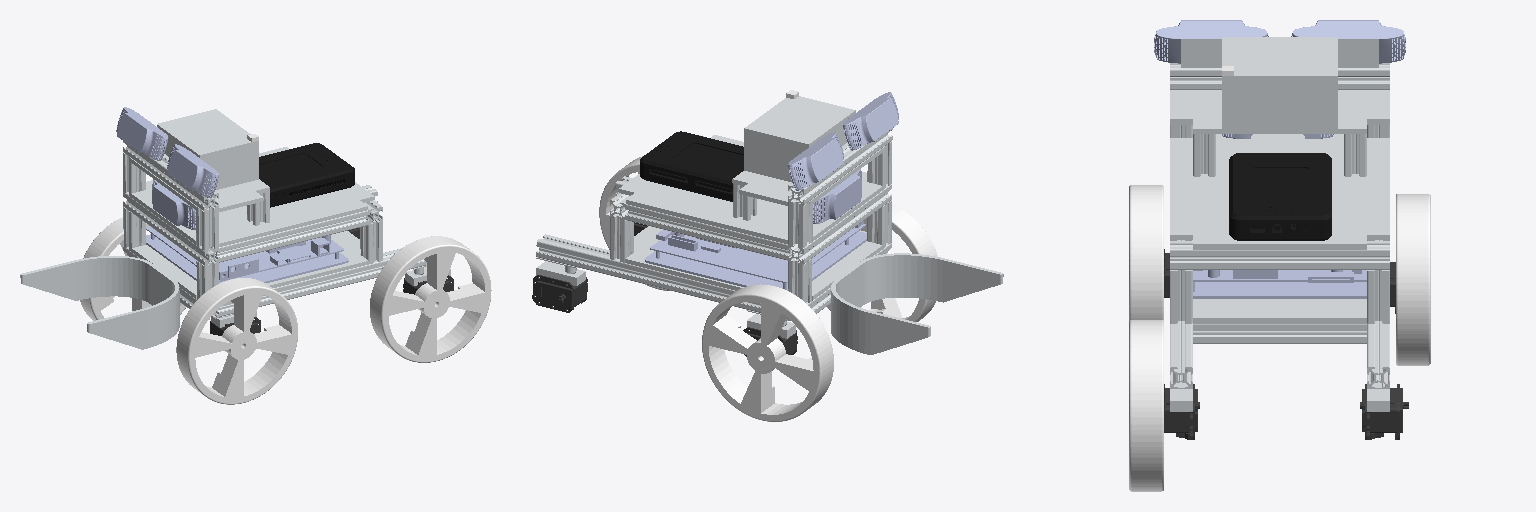
--- What the picture shows (computed from the rendered views, not written in the file) ---
Views: 3 orthographic renders of the robot side by side, from view 1: azimuth 30°, elevation 25°; view 2: azimuth 150°, elevation 25°; view 3: azimuth 270°, elevation 25°.
Robot: modification2_2 — 22 links, 21 joints (4 continuous, 4 prismatic, 13 fixed); root link base_link; default pose: all joints at 0.
Links seen in each view (by area): view 1: base_link, left_front_wheel, left_rear_wheel, pusher, nvidia, myrio, camera2, camera3, right_front_wheel, camera; view 2: base_link, right_front_wheel, pusher, nvidia, myrio, left_front_wheel, camera3, camera2, right_rear_wheel_motor, camera, left_rear_wheel, right_rear_wheel_suspension; view 3: base_link, myrio, right_front_wheel, left_rear_wheel, nvidia, left_front_wheel, camera2, camera3, right_rear_wheel_motor, left_rear_wheel_motor, left_rear_wheel_suspension, right_rear_wheel_suspension.
Boxes of the visible links, <box> form: base_link: <box>123,109,426,319</box>; left_front_wheel: <box>176,278,297,404</box>; left_rear_wheel: <box>370,236,491,362</box>; pusher: <box>20,256,179,349</box>; nvidia: <box>146,226,348,283</box>; myrio: <box>259,143,354,207</box>; camera2: <box>116,107,168,160</box>; camera3: <box>167,144,218,197</box>; right_front_wheel: <box>80,217,185,320</box>; camera: <box>152,179,195,229</box>; base_link: <box>536,96,892,325</box>; right_front_wheel: <box>702,284,833,421</box>; pusher: <box>831,253,1003,354</box>; nvidia: <box>645,221,866,290</box>; myrio: <box>640,131,743,201</box>; left_front_wheel: <box>827,204,937,321</box>; camera3: <box>843,92,898,150</box>; camera2: <box>788,132,843,190</box>; right_rear_wheel_motor: <box>532,275,587,312</box>; camera: <box>813,169,861,223</box>; left_rear_wheel: <box>599,156,669,290</box>; right_rear_wheel_suspension: <box>536,261,585,285</box>; base_link: <box>1170,37,1389,388</box>; myrio: <box>1229,153,1331,240</box>; right_front_wheel: <box>1396,194,1430,365</box>; left_rear_wheel: <box>1129,320,1163,491</box>; nvidia: <box>1193,270,1366,298</box>; left_front_wheel: <box>1129,185,1163,320</box>; camera2: <box>1291,20,1405,63</box>; camera3: <box>1154,20,1268,63</box>; right_rear_wheel_motor: <box>1360,384,1408,439</box>; left_rear_wheel_motor: <box>1164,384,1199,439</box>; left_rear_wheel_suspension: <box>1170,389,1192,411</box>; right_rear_wheel_suspension: <box>1367,389,1389,411</box>.
Bounding box of the posed robot: 0.5132 × 0.2595 × 0.3033 m (x, y, z).
Meshes: 22 distinct files referenced, 20 mesh visuals loaded (20 binary STL); not drawn: 2 (reference not matched to a file when rendering).

robot.urdf — modification2_2:
<?xml version="1.0" encoding="utf-8"?>
<!-- This URDF was automatically created by SolidWorks to URDF Exporter! Originally created by Stephen Brawner ([email redacted]) 
     Commit Version: 1.5.1-0-g916b5db  Build Version: 1.5.7152.31018
     For more information, please see http://wiki.ros.org/sw_urdf_exporter -->
<robot
  name="modification2_2">
  <link
    name="base_link">
    <inertial>
      <origin
        xyz="0.23702 -0.17913 0.050831"
        rpy="0 0 0" />
      <mass
        value="1.7142" />
      <inertia
        ixx="0.0030524"
        ixy="-4.9661E-12"
        ixz="-3.0934E-05"
        iyy="0.0053771"
        iyz="1.3096E-11"
        izz="0.0082758" />
    </inertial>
    <visual>
      <origin
        xyz="0 0 0"
        rpy="0 0 0" />
      <geometry>
        <mesh
          filename="package://modification2_2/meshes/base_link.STL" />
      </geometry>
      <material
        name="">
        <color
          rgba="0.89804 0.91765 0.92941 1" />
      </material>
    </visual>
    <collision>
      <origin
        xyz="0 0 0"
        rpy="0 0 0" />
      <geometry>
        <mesh
          filename="package://modification2_2/meshes/base_link.STL" />
      </geometry>
    </collision>
  </link>
  <link
    name="left_front_wheel_suspension">
    <inertial>
      <origin
        xyz="-0.0024482 0.0034343 0.0077474"
        rpy="0 0 0" />
      <mass
        value="0.023946" />
      <inertia
        ixx="1.0721E-06"
        ixy="-6.4768E-21"
        ixz="3.9492E-22"
        iyy="5.9742E-06"
        iyz="-6.8611E-23"
        izz="5.3013E-06" />
    </inertial>
    <visual>
      <origin
        xyz="0 0 0"
        rpy="0 0 0" />
      <geometry>
        <mesh
          filename="package://modification2_2/meshes/left_front_wheel_suspension.STL" />
      </geometry>
      <material
        name="">
        <color
          rgba="0.89804 0.91765 0.92941 1" />
      </material>
    </visual>
    <collision>
      <origin
        xyz="0 0 0"
        rpy="0 0 0" />
      <geometry>
        <mesh
          filename="package://modification2_2/meshes/left_front_wheel_suspension.STL" />
      </geometry>
    </collision>
  </link>
  <joint
    name="left_front_wheel_suspension_joint"
    type="prismatic">
    <origin
      xyz="0.17302 -0.25638 -0.025183"
      rpy="1.5708 -0.0058285 0" />
    <parent
      link="base_link" />
    <child
      link="left_front_wheel_suspension" />
    <axis
      xyz="0 1 0" />
    <limit
      lower="0"
      upper="0.008"
      effort="1000"
      velocity="1000" />
  </joint>
  <link
    name="left_front_wheel_motor">
    <inertial>
      <origin
        xyz="-0.0084619 0.0059275 -0.020684"
        rpy="0 0 0" />
      <mass
        value="0.041167" />
      <inertia
        ixx="1.155E-05"
        ixy="-2.9641E-09"
        ixz="-1.6485E-08"
        iyy="6.938E-06"
        iyz="1.5645E-07"
        izz="9.579E-06" />
    </inertial>
    <visual>
      <origin
        xyz="0 0 0"
        rpy="0 0 0" />
      <geometry>
        <mesh
          filename="package://modification2_2/meshes/left_front_wheel_motor.STL" />
      </geometry>
      <material
        name="">
        <color
          rgba="0.29804 0.29804 0.29804 1" />
      </material>
    </visual>
    <collision>
      <origin
        xyz="0 0 0"
        rpy="0 0 0" />
      <geometry>
        <mesh
          filename="package://modification2_2/meshes/left_front_wheel_motor.STL" />
      </geometry>
    </collision>
  </link>
  <joint
    name="left_front_wheel_motor_joint"
    type="fixed">
    <origin
      xyz="0.000300000000000022 -0.021785446729879 -0.00999999999999998"
      rpy="3.14159265358979 0 -1.5707963267949" />
    <parent
      link="left_front_wheel_suspension" />
    <child
      link="left_front_wheel_motor" />
    <axis
      xyz="0 0 0" />
    <limit
      effort="3.1"
      velocity="7" />
  </joint>
  <link
    name="left_front_wheel">
    <inertial>
      <origin
        xyz="0.023587 -0.0084106 -0.0040275"
        rpy="0 0 0" />
      <mass
        value="0.22822" />
      <inertia
        ixx="0.00078921"
        ixy="5.3331E-21"
        ixz="3.9085E-18"
        iyy="0.00041043"
        iyz="-3.2399E-19"
        izz="0.00041043" />
    </inertial>
    <visual>
      <origin
        xyz="0 0 0"
        rpy="0 0 0" />
      <geometry>
        <mesh
          filename="package://modification2_2/meshes/left_front_wheel.STL" />
      </geometry>
      <material
        name="">
        <color
          rgba="1 1 1 1" />
      </material>
    </visual>
    <collision>
      <origin
        xyz="0 0 0"
        rpy="0 0 0" />
      <geometry>
        <mesh
          filename="package://modification2_2/meshes/left_front_wheel.STL" />
      </geometry>
    </collision>
  </link>
  <joint
    name="left_front_wheel_joint"
    type="continuous">
    <origin
      xyz="0 0.0133000000000001 -0.0247499999999968"
      rpy="1.56496784847997 1.5707963267949 0" />
    <parent
      link="left_front_wheel_motor" />
    <child
      link="left_front_wheel" />
    <axis
      xyz="1 0 0" />
    <limit
      effort="3.1"
      velocity="7" />
  </joint>
  <link
    name="right_front_wheel_suspension">
    <inertial>
      <origin
        xyz="-0.0024482 -0.0049997 0.0077474"
        rpy="0 0 0" />
      <mass
        value="0.023946" />
      <inertia
        ixx="1.0721E-06"
        ixy="-5.8345E-21"
        ixz="1.7083E-21"
        iyy="5.9742E-06"
        iyz="5.9434E-23"
        izz="5.3013E-06" />
    </inertial>
    <visual>
      <origin
        xyz="0 0 0"
        rpy="0 0 0" />
      <geometry>
        <mesh
          filename="package://modification2_2/meshes/right_front_wheel_suspension.STL" />
      </geometry>
      <material
        name="">
        <color
          rgba="0.89804 0.91765 0.92941 1" />
      </material>
    </visual>
    <collision>
      <origin
        xyz="0 0 0"
        rpy="0 0 0" />
      <geometry>
        <mesh
          filename="package://modification2_2/meshes/right_front_wheel_suspension.STL" />
      </geometry>
    </collision>
  </link>
  <joint
    name="right_front_wheel_suspension_joint"
    type="prismatic">
    <origin
      xyz="0.173017310205243 -0.0863808182699648 -0.0251829837934054"
      rpy="1.5707963267949 -0.00582847831492263 0" />
    <parent
      link="base_link" />
    <child
      link="right_front_wheel_suspension" />
    <axis
      xyz="0 1 0" />
    <limit
      lower="0"
      upper="0.008"
      effort="1000"
      velocity="1000" />
  </joint>
  <link
    name="right_front_wheel_motor">
    <inertial>
      <origin
        xyz="-2.7958E-05 0.0059275 -0.0051891"
        rpy="0 0 0" />
      <mass
        value="0.041167" />
      <inertia
        ixx="1.155E-05"
        ixy="-2.9641E-09"
        ixz="-1.6485E-08"
        iyy="6.938E-06"
        iyz="1.5645E-07"
        izz="9.579E-06" />
    </inertial>
    <visual>
      <origin
        xyz="0 0 0"
        rpy="0 0 0" />
      <geometry>
        <mesh
          filename="package://modification2_2/meshes/right_front_wheel_motor.STL" />
      </geometry>
      <material
        name="">
        <color
          rgba="0.29804 0.29804 0.29804 1" />
      </material>
    </visual>
    <collision>
      <origin
        xyz="0 0 0"
        rpy="0 0 0" />
      <geometry>
        <mesh
          filename="package://modification2_2/meshes/right_front_wheel_motor.STL" />
      </geometry>
    </collision>
  </link>
  <joint
    name="right_front_wheel_motor_joint"
    type="fixed">
    <origin
      xyz="0.000299999999999967 -0.021785446729879 0.01"
      rpy="0 0 1.5707963267949" />
    <parent
      link="right_front_wheel_suspension" />
    <child
      link="right_front_wheel_motor" />
    <axis
      xyz="0 0 0" />
    <limit
      effort="3.1"
      velocity="7" />
  </joint>
  <link
    name="right_front_wheel">
    <inertial>
      <origin
        xyz="0.0080918 -2.3188E-05 -0.0039784"
        rpy="0 0 0" />
      <mass
        value="0.22822" />
      <inertia
        ixx="0.00078921"
        ixy="-1.2068E-20"
        ixz="-1.3167E-18"
        iyy="0.00041043"
        iyz="-3.3749E-19"
        izz="0.00041043" />
    </inertial>
    <visual>
      <origin
        xyz="0 0 0"
        rpy="0 0 0" />
      <geometry>
        <mesh
          filename="package://modification2_2/meshes/right_front_wheel.STL" />
      </geometry>
      <material
        name="">
        <color
          rgba="1 1 1 1" />
      </material>
    </visual>
    <collision>
      <origin
        xyz="0 0 0"
        rpy="0 0 0" />
      <geometry>
        <mesh
          filename="package://modification2_2/meshes/right_front_wheel.STL" />
      </geometry>
    </collision>
  </link>
  <joint
    name="right_front_wheel_joint"
    type="continuous">
    <origin
      xyz="0 0.0133 -0.02475"
      rpy="1.57662480510982 1.5707963267949 0" />
    <parent
      link="right_front_wheel_motor" />
    <child
      link="right_front_wheel" />
    <axis
      xyz="1 0 0" />
    <limit
      effort="3.1"
      velocity="7" />
  </joint>
  <link
    name="camera">
    <inertial>
      <origin
        xyz="0.05972 0.0025728 0.0086007"
        rpy="0 0 0" />
      <mass
        value="0.043612" />
      <inertia
        ixx="4.2948E-06"
        ixy="8.7977E-10"
        ixz="1.0233E-09"
        iyy="2.2106E-05"
        iyz="1.3219E-08"
        izz="2.3571E-05" />
    </inertial>
    <visual>
      <origin
        xyz="0 0 0"
        rpy="0 0 0" />
      <geometry>
        <mesh
          filename="package://modification2_2/meshes/camera.STL" />
      </geometry>
      <material
        name="">
        <color
          rgba="0.79216 0.81961 0.93333 1" />
      </material>
    </visual>
    <collision>
      <origin
        xyz="0 0 0"
        rpy="0 0 0" />
      <geometry>
        <mesh
          filename="package://modification2_2/meshes/camera.STL" />
      </geometry>
    </collision>
  </link>
  <joint
    name="camera"
    type="fixed">
    <origin
      xyz="0.127285028685578 -0.121173837611466 0.100548577023616"
      rpy="-1.5707963267949 0 -1.5707963267949" />
    <parent
      link="base_link" />
    <child
      link="camera" />
    <axis
      xyz="0 0 0" />
  </joint>
  <link
    name="myrio">
    <inertial>
      <origin
        xyz="0.029802 -0.019081 -0.0073103"
        rpy="0 0 0" />
      <mass
        value="0.2728" />
      <inertia
        ixx="0.00018312"
        ixy="9.7818E-08"
        ixz="1.3278E-06"
        iyy="0.00058403"
        iyz="-1.3394E-07"
        izz="0.0004265" />
    </inertial>
    <visual>
      <origin
        xyz="0 0 0"
        rpy="0 0 0" />
      <geometry>
        <mesh
          filename="package://modification2_2/meshes/myrio.STL" />
      </geometry>
      <material
        name="">
        <color
          rgba="0.14902 0.14902 0.14902 1" />
      </material>
    </visual>
    <collision>
      <origin
        xyz="0 0 0"
        rpy="0 0 0" />
      <geometry>
        <mesh
          filename="package://modification2_2/meshes/myrio.STL" />
      </geometry>
    </collision>
  </link>
  <joint
    name="myrio"
    type="fixed">
    <origin
      xyz="0.261041499396395 -0.185631459517847 0.113328386370531"
      rpy="1.5707963267949 -0.0058284783149254 0" />
    <parent
      link="base_link" />
    <child
      link="myrio" />
    <axis
      xyz="0 0 0" />
  </joint>
  <link
    name="intel">
    <inertial>
      <origin
        xyz="-0.0040354 0.016954 0.05597"
        rpy="0 0 0" />
      <mass
        value="0.39954" />
      <inertia
        ixx="0.00043203"
        ixy="-1.8338E-07"
        ixz="-3.1716E-07"
        iyy="0.00083697"
        iyz="4.7745E-07"
        izz="0.00047302" />
    </inertial>
    <visual>
      <origin
        xyz="0 0 0"
        rpy="0 0 0" />
      <geometry>
        <mesh
          filename="package://modification2_2/meshes/intel.STL" />
      </geometry>
      <material
        name="">
        <color
          rgba="0.79216 0.81961 0.93333 1" />
      </material>
    </visual>
    <collision>
      <origin
        xyz="0 0 0"
        rpy="0 0 0" />
      <geometry>
        <mesh
          filename="package://modification2_2/meshes/intel.STL" />
      </geometry>
    </collision>
  </link>
  <joint
    name="intel"
    type="fixed">
    <origin
      xyz="0.205522597365492 -0.109366659682657 -0.0259953857991605"
      rpy="1.5707963267949 -0.00582847831492263 0" />
    <parent
      link="base_link" />
    <child
      link="intel" />
    <axis
      xyz="0 0 0" />
  </joint>
  <link
    name="nvidia">
    <inertial>
      <origin
        xyz="-0.011063 0.0092094 -0.17116"
        rpy="0 0 0" />
      <mass
        value="0.24039" />
      <inertia
        ixx="0.00035768"
        ixy="-3.6191E-09"
        ixz="-2.9294E-07"
        iyy="0.00074648"
        iyz="4.0353E-06"
        izz="0.0003994" />
    </inertial>
    <visual>
      <origin
        xyz="0 0 0"
        rpy="0 0 0" />
      <geometry>
        <mesh
          filename="package://modification2_2/meshes/nvidia.STL" />
      </geometry>
      <material
        name="">
        <color
          rgba="0.79216 0.81961 0.93333 1" />
      </material>
    </visual>
    <collision>
      <origin
        xyz="0 0 0"
        rpy="0 0 0" />
      <geometry>
        <mesh
          filename="package://modification2_2/meshes/nvidia.STL" />
      </geometry>
    </collision>
  </link>
  <joint
    name="nvidia"
    type="fixed">
    <origin
      xyz="0.418367655264176 -0.191953362348841 0.0363810058695082"
      rpy="-1.57662480510981 0 -1.5707963267949" />
    <parent
      link="base_link" />
    <child
      link="nvidia" />
    <axis
      xyz="0 0 0" />
  </joint>
  <link
    name="pusher ">
    <inertial>
      <origin
        xyz="-0.0074595 -0.050092 0.016898"
        rpy="0 0 0" />
      <mass
        value="0.22566" />
      <inertia
        ixx="0.00042306"
        ixy="1.8219E-09"
        ixz="1.615E-10"
        iyy="0.00092302"
        iyz="-3.2094E-05"
        izz="0.0012554" />
    </inertial>
    <visual>
      <origin
        xyz="0 0 0"
        rpy="0 0 0" />
      <geometry>
        <mesh
          filename="package://modification2_2/meshes/pusher .STL" />
      </geometry>
      <material
        name="">
        <color
          rgba="0.89804 0.91765 0.92941 1" />
      </material>
    </visual>
    <collision>
      <origin
        xyz="0 0 0"
        rpy="0 0 0" />
      <geometry>
        <mesh
          filename="package://modification2_2/meshes/pusher .STL" />
      </geometry>
    </collision>
  </link>
  <joint
    name="pusher "
    type="fixed">
    <origin
      xyz="0.12800972713721 -0.171668848940021 0.00555337054790796"
      rpy="3.13576417527487 0 1.5707963267949" />
    <parent
      link="base_link" />
    <child
      link="pusher " />
    <axis
      xyz="0 0 0" />
    <limit
      lower="0"
      upper="0"
      effort="0"
      velocity="0" />
  </joint>
  <link
    name="camera2">
    <inertial>
      <origin
        xyz="-0.00091282 0.020118 -0.0016659"
        rpy="0 0 0" />
      <mass
        value="0.043612" />
      <inertia
        ixx="4.2947E-06"
        ixy="9.8013E-10"
        ixz="7.0878E-10"
        iyy="2.2285E-05"
        iyz="4.8105E-07"
        izz="2.339E-05" />
    </inertial>
    <visual>
      <origin
        xyz="0 0 0"
        rpy="0 0 0" />
      <geometry>
        <mesh
          filename="package://modification2_2/meshes/camera2.STL" />
      </geometry>
      <material
        name="">
        <color
          rgba="0.79216 0.81961 0.93333 1" />
      </material>
    </visual>
    <collision>
      <origin
        xyz="0 0 0"
        rpy="0 0 0" />
      <geometry>
        <mesh
          filename="package://modification2_2/meshes/camera2.STL" />
      </geometry>
    </collision>
  </link>
  <joint
    name="camera2"
    type="fixed">
    <origin
      xyz="0.12829 -0.12117 0.18555"
      rpy="-1.5708 0 -1.5708" />
    <parent
      link="base_link" />
    <child
      link="camera2" />
    <axis
      xyz="0 0 0" />
  </joint>
  <link
    name="left_rear_wheel_suspension">
    <inertial>
      <origin
        xyz="-0.0024482 -0.0049997 0.0077474"
        rpy="0 0 0" />
      <mass
        value="0.023946" />
      <inertia
        ixx="1.0721E-06"
        ixy="7.7114E-21"
        ixz="1.2963E-22"
        iyy="5.9742E-06"
        iyz="3.0104E-22"
        izz="5.3013E-06" />
    </inertial>
    <visual>
      <origin
        xyz="0 0 0"
        rpy="0 0 0" />
      <geometry>
        <mesh
          filename="package://modification2_2/meshes/left_rear_wheel_suspension.STL" />
      </geometry>
      <material
        name="">
        <color
          rgba="0.89804 0.91765 0.92941 1" />
      </material>
    </visual>
    <collision>
      <origin
        xyz="0 0 0"
        rpy="0 0 0" />
      <geometry>
        <mesh
          filename="package://modification2_2/meshes/left_rear_wheel_suspension.STL" />
      </geometry>
    </collision>
  </link>
  <joint
    name="left_rear_wheel_suspension_joint"
    type="prismatic">
    <origin
      xyz="0.433013447649035 -0.256382133064 -0.0237625829176585"
      rpy="1.5707963267949 -0.00582847831492541 0" />
    <parent
      link="base_link" />
    <child
      link="left_rear_wheel_suspension" />
    <axis
      xyz="0 1 0" />
    <limit
      lower="0"
      upper="0.008"
      effort="1000"
      velocity="1000" />
  </joint>
  <link
    name="left_rear_wheel_motor">
    <inertial>
      <origin
        xyz="-2.7958E-05 0.0059275 -0.020684"
        rpy="0 0 0" />
      <mass
        value="0.041167" />
      <inertia
        ixx="1.155E-05"
        ixy="-2.9641E-09"
        ixz="-1.6485E-08"
        iyy="6.938E-06"
        iyz="1.5645E-07"
        izz="9.579E-06" />
    </inertial>
    <visual>
      <origin
        xyz="0 0 0"
        rpy="0 0 0" />
      <geometry>
        <mesh
          filename="package://modification2_2/meshes/left_rear_wheel_motor.STL" />
      </geometry>
      <material
        name="">
        <color
          rgba="0.29804 0.29804 0.29804 1" />
      </material>
    </visual>
    <collision>
      <origin
        xyz="0 0 0"
        rpy="0 0 0" />
      <geometry>
        <mesh
          filename="package://modification2_2/meshes/left_rear_wheel_motor.STL" />
      </geometry>
    </collision>
  </link>
  <joint
    name="left_rear_wheel_motor_joint"
    type="fixed">
    <origin
      xyz="-0.000300000000000022 -0.021785446729879 -0.01"
      rpy="3.14159265358979 0 -1.5707963267949" />
    <parent
      link="left_rear_wheel_suspension" />
    <child
      link="left_rear_wheel_motor" />
    <axis
      xyz="0 0 0" />
    <limit
      effort="3.1"
      velocity="7" />
  </joint>
  <link
    name="left_rear_wheel">
    <inertial>
      <origin
        xyz="0.023587 2.3188E-05 -0.0039784"
        rpy="0 0 0" />
      <mass
        value="0.22822" />
      <inertia
        ixx="0.00078921"
        ixy="1.0227E-21"
        ixz="3.9277E-18"
        iyy="0.00041043"
        iyz="-3.3781E-19"
        izz="0.00041043" />
    </inertial>
    <visual>
      <origin
        xyz="0 0 0"
        rpy="0 0 0" />
      <geometry>
        <mesh
          filename="package://modification2_2/meshes/left_rear_wheel.STL" />
      </geometry>
      <material
        name="">
        <color
          rgba="1 1 1 1" />
      </material>
    </visual>
    <collision>
      <origin
        xyz="0 0 0"
        rpy="0 0 0" />
      <geometry>
        <mesh
          filename="package://modification2_2/meshes/left_rear_wheel.STL" />
      </geometry>
    </collision>
  </link>
  <joint
    name="left_rear_wheel_joint"
    type="continuous">
    <origin
      xyz="0 0.0133 -0.0247499999999941"
      rpy="1.56496784847997 1.5707963267949 0" />
    <parent
      link="left_rear_wheel_motor" />
    <child
      link="left_rear_wheel" />
    <axis
      xyz="1 0 0" />
    <limit
      effort="3.1"
      velocity="7" />
  </joint>
  <link
    name="imu">
    <inertial>
      <origin
        xyz="-0.0039784 0.0035868 0.011499"
        rpy="0 0 0" />
      <mass
        value="0.00051" />
      <inertia
        ixx="5.3125E-09"
        ixy="-5.0891E-24"
        ixz="-1.5775E-25"
        iyy="8.5E-09"
        iyz="-1.535E-25"
        izz="5.3125E-09" />
    </inertial>
    <visual>
      <origin
        xyz="0 0 0"
        rpy="0 0 0" />
      <geometry>
        <mesh
          filename="package://modification2_2/meshes/imu.STL" />
      </geometry>
      <material
        name="">
        <color
          rgba="1 1 1 1" />
      </material>
    </visual>
    <collision>
      <origin
        xyz="0 0 0"
        rpy="0 0 0" />
      <geometry>
        <mesh
          filename="package://modification2_2/meshes/imu.STL" />
      </geometry>
    </collision>
  </link>
  <joint
    name="imu"
    type="fixed">
    <origin
      xyz="0.22184628166145 -0.21263145951784 0.176101005413663"
      rpy="1.5707963267949 -0.00582847831492264 0" />
    <parent
      link="base_link" />
    <child
      link="imu" />
    <axis
      xyz="0 0 0" />
  </joint>
  <link
    name="right_rear_wheel_suspension">
    <inertial>
      <origin
        xyz="-0.0024482 -0.0049997 0.0077474"
        rpy="0 0 0" />
      <mass
        value="0.023946" />
      <inertia
        ixx="1.0721E-06"
        ixy="6.9281E-21"
        ixz="1.0056E-21"
        iyy="5.9742E-06"
        iyz="2.3797E-22"
        izz="5.3013E-06" />
    </inertial>
    <visual>
      <origin
        xyz="0 0 0"
        rpy="0 0 0" />
      <geometry>
        <mesh
          filename="package://modification2_2/meshes/right_rear_wheel_suspension.STL" />
      </geometry>
      <material
        name="">
        <color
          rgba="0.89804 0.91765 0.92941 1" />
      </material>
    </visual>
    <collision>
      <origin
        xyz="0 0 0"
        rpy="0 0 0" />
      <geometry>
        <mesh
          filename="package://modification2_2/meshes/right_rear_wheel_suspension.STL" />
      </geometry>
    </collision>
  </link>
  <joint
    name="right_rear_wheel_suspension_joint"
    type="prismatic">
    <origin
      xyz="0.433012893967015 -0.0863808182699648 -0.0236675880115178"
      rpy="1.5707963267949 -0.00582847831492541 0" />
    <parent
      link="base_link" />
    <child
      link="right_rear_wheel_suspension" />
    <axis
      xyz="0 1 0" />
    <limit
      lower="0"
      upper="0.008"
      effort="1000"
      velocity="1000" />
  </joint>
  <link
    name="right_rear_wheel_motor">
    <inertial>
      <origin
        xyz="-2.7958E-05 0.0059275 -0.0051891"
        rpy="0 0 0" />
      <mass
        value="0.041167" />
      <inertia
        ixx="1.155E-05"
        ixy="-2.9641E-09"
        ixz="-1.6485E-08"
        iyy="6.938E-06"
        iyz="1.5645E-07"
        izz="9.579E-06" />
    </inertial>
    <visual>
      <origin
        xyz="0 0 0"
        rpy="0 0 0" />
      <geometry>
        <mesh
          filename="package://modification2_2/meshes/right_rear_wheel_motor.STL" />
      </geometry>
      <material
        name="">
        <color
          rgba="0.29804 0.29804 0.29804 1" />
      </material>
    </visual>
    <collision>
      <origin
        xyz="0 0 0"
        rpy="0 0 0" />
      <geometry>
        <mesh
          filename="package://modification2_2/meshes/right_rear_wheel_motor.STL" />
      </geometry>
    </collision>
  </link>
  <joint
    name="right_rear_wheel_motor_joint"
    type="fixed">
    <origin
      xyz="-0.000300000000000245 -0.021785446729879 0.01"
      rpy="0 0 1.5707963267949" />
    <parent
      link="right_rear_wheel_suspension" />
    <child
      link="right_rear_wheel_motor" />
    <axis
      xyz="0 0 0" />
    <limit
      effort="3.1"
      velocity="7" />
  </joint>
  <link
    name="right_rear_wheel">
    <inertial>
      <origin
        xyz="0.0080918 -2.3188E-05 -0.0039784"
        rpy="0 0 0" />
      <mass
        value="0.22822" />
      <inertia
        ixx="0.00078921"
        ixy="-7.0377E-21"
        ixz="-1.3201E-18"
        iyy="0.00041043"
        iyz="-3.6638E-19"
        izz="0.00041043" />
    </inertial>
    <visual>
      <origin
        xyz="0 0 0"
        rpy="0 0 0" />
      <geometry>
        <mesh
          filename="package://modification2_2/meshes/right_rear_wheel.STL" />
      </geometry>
      <material
        name="">
        <color
          rgba="1 1 1 1" />
      </material>
    </visual>
    <collision>
      <origin
        xyz="0 0 0"
        rpy="0 0 0" />
      <geometry>
        <mesh
          filename="package://modification2_2/meshes/right_rear_wheel.STL" />
      </geometry>
    </collision>
  </link>
  <joint
    name="right_rear_wheel_joint"
    type="continuous">
    <origin
      xyz="0 0.0132999999999999 -0.0247500000000009"
      rpy="1.57662480510982 1.5707963267949 0" />
    <parent
      link="right_rear_wheel_motor" />
    <child
      link="right_rear_wheel" />
    <axis
      xyz="1 0 0" />
    <limit
      effort="3.1"
      velocity="7" />
  </joint>
  <link
    name="lidar">
    <inertial>
      <origin
        xyz="-0.082003 0.75286 0.13434"
        rpy="0 0 0" />
      <mass
        value="0.073085" />
      <inertia
        ixx="1.9581E-05"
        ixy="-4.2839E-07"
        ixz="1.0393E-07"
        iyy="4.1418E-05"
        iyz="-9.4274E-09"
        izz="2.4125E-05" />
    </inertial>
    <visual>
      <origin
        xyz="0 0 0"
        rpy="0 0 0" />
      <geometry>
        <mesh
          filename="package://modification2_2/meshes/lidar.STL" />
      </geometry>
      <material
        name="">
        <color
          rgba="0.79216 0.81961 0.93333 1" />
      </material>
    </visual>
    <collision>
      <origin
        xyz="0 0 0"
        rpy="0 0 0" />
      <geometry>
        <mesh
          filename="package://modification2_2/meshes/lidar.STL" />
      </geometry>
    </collision>
  </link>
  <joint
    name="lidar_joint"
    type="fixed">
    <origin
      xyz="0.27205409893947 -0.0408261666002637 -0.550658139659127"
      rpy="1.5707963267949 -0.0058284783149254 0" />
    <parent
      link="base_link" />
    <child
      link="lidar" />
    <axis
      xyz="0 0 0" />
  </joint>
  <link
    name="camera3">
    <inertial>
      <origin
        xyz="0.049836 -0.061784 -0.068723"
        rpy="0 0 0" />
      <mass
        value="0.043612" />
      <inertia
        ixx="4.2947E-06"
        ixy="6.8442E-10"
        ixz="9.9729E-10"
        iyy="2.2105E-05"
        iyz="2.1765E-08"
        izz="2.357E-05" />
    </inertial>
    <visual>
      <origin
        xyz="0 0 0"
        rpy="0 0 0" />
      <geometry>
        <mesh
          filename="package://modification2_2/meshes/camera3.STL" />
      </geometry>
      <material
        name="">
        <color
          rgba="0.79216 0.81961 0.93333 1" />
      </material>
    </visual>
    <collision>
      <origin
        xyz="0 0 0"
        rpy="0 0 0" />
      <geometry>
        <mesh
          filename="package://modification2_2/meshes/camera3.STL" />
      </geometry>
    </collision>
  </link>
  <joint
    name="camera3"
    type="fixed">
    <origin
      xyz="0.17055 -0.18815 0.084128"
      rpy="-1.914 0 -1.5708" />
    <parent
      link="base_link" />
    <child
      link="camera3" />
    <axis
      xyz="0 0 0" />
  </joint>
</robot>
